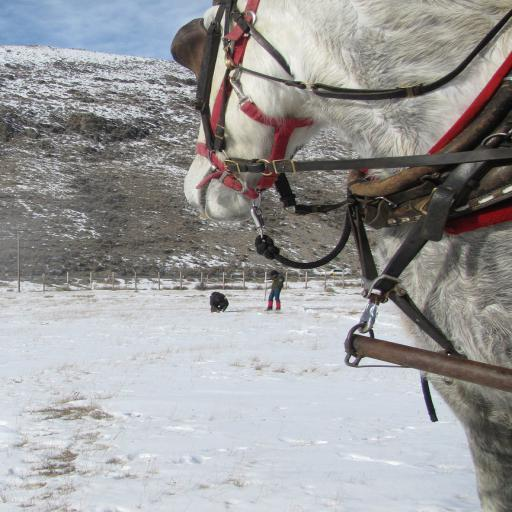horse: (182, 0, 512, 512)
